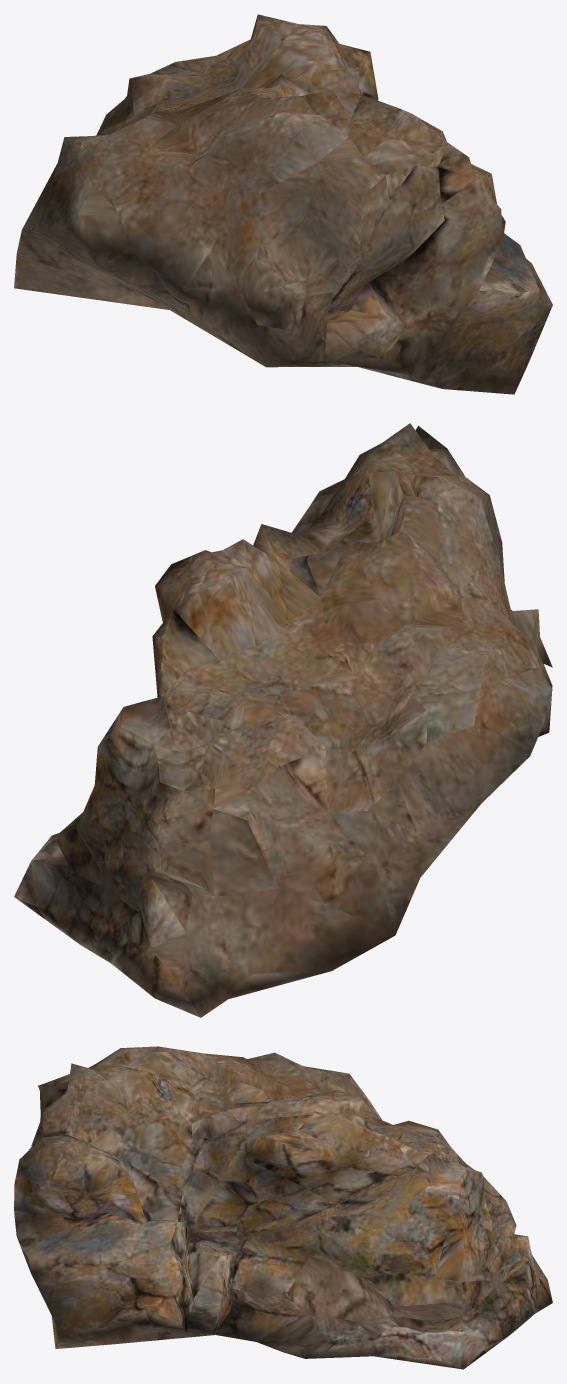
The model's file is SM_Boulder.glb.
The picture shows the model from 3 angles, top to bottom: view 1: azimuth 30°, elevation 25°; view 2: azimuth 150°, elevation 25°; view 3: azimuth 270°, elevation 25°; orthographic projection. The views are drawn at different scales.
Visible parts, largest first — view 1: SM_Boulder; view 2: SM_Boulder; view 3: SM_Boulder.
Part boxes in pixels (left/top/right/bottom): SM_Boulder: left=14, top=14, right=552, bottom=394; SM_Boulder: left=14, top=423, right=552, bottom=1017; SM_Boulder: left=14, top=1046, right=552, bottom=1369.
Size of the model in its own units: 1.89 by 1.48 by 2.65.
Materials: 1 (1 with a texture image).
